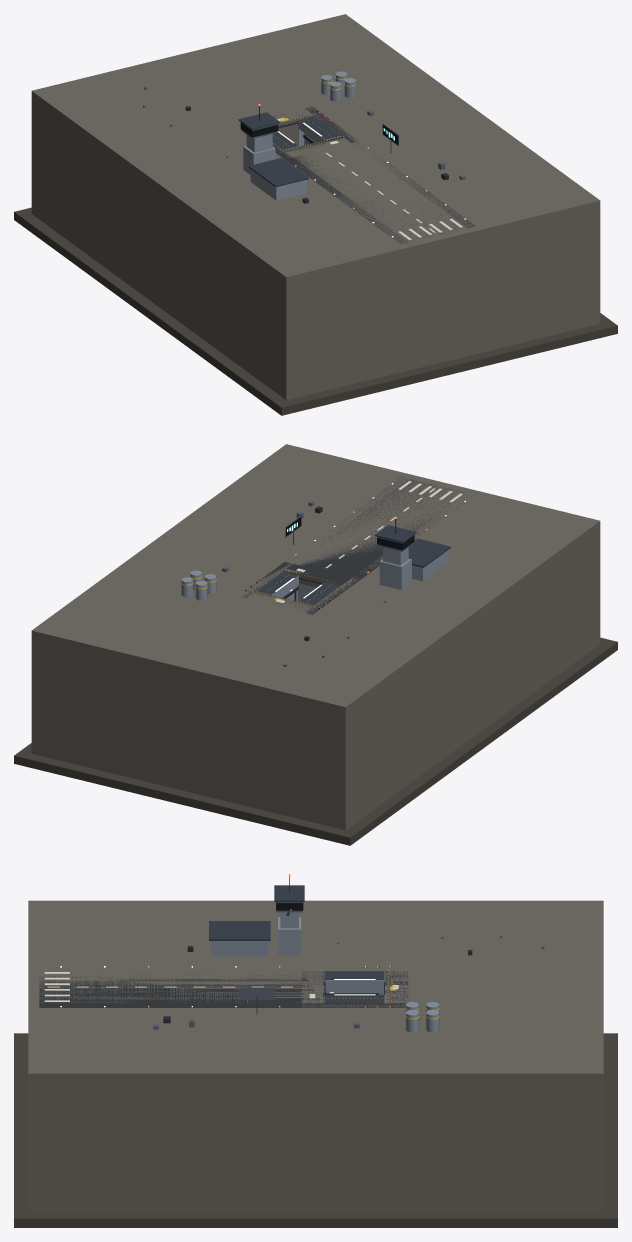
The model's file is runway-port-l.glb.
3 views of the same model, one above another, from view 1: azimuth 30°, elevation 25°; view 2: azimuth 150°, elevation 25°; view 3: azimuth 270°, elevation 25° (orthographic). The views are drawn at different scales.
Visible parts, largest first — view 1: rockFaceFore, rockDeckL, rockDeckR, rockFaceL, rockDeckFore, rockDeckAft, rockSkirt2, rockSkirt1, portStrip, rockFaceR, worksShedRoof, worksShed; view 2: rockFaceAft, rockDeckL, rockDeckR, rockFaceL, rockDeckAft, rockDeckFore, rockSkirt2, rockSkirt0, portStrip, rockFaceR, worksTowerSeg0, worksShedRoof (+1 smaller); view 3: rockFaceR, rockDeckR, rockDeckL, rockSkirt3, rockDeckAft, rockDeckFore, portStrip, rockSkirt1, rockSkirt0, worksShedRoof, worksShed, worksTowerSeg0 (+5 smaller).
Boxes of the visible parts, box(x1,y1,x2,y2) form: rockFaceFore: box(297, 212, 589, 397); rockDeckL: box(31, 59, 413, 285); rockDeckR: box(218, 14, 600, 240); rockFaceL: box(31, 100, 297, 400); rockDeckFore: box(285, 138, 472, 254); rockDeckAft: box(159, 45, 313, 132); rockSkirt2: box(14, 209, 292, 413); rockSkirt1: box(275, 323, 617, 415); portStrip: box(285, 143, 475, 244); rockFaceR: box(589, 209, 600, 326); worksShedRoof: box(248, 158, 308, 187); worksShed: box(250, 169, 306, 200); rockFaceAft: box(42, 642, 334, 827); rockDeckL: box(218, 489, 600, 715); rockDeckR: box(31, 444, 413, 670); rockFaceL: box(334, 530, 600, 830); rockDeckAft: box(159, 591, 312, 684); rockDeckFore: box(283, 475, 472, 587); rockSkirt2: box(339, 639, 617, 843); rockSkirt0: box(14, 753, 356, 845); portStrip: box(296, 477, 464, 579); rockFaceR: box(31, 639, 42, 756); worksTowerSeg0: box(379, 559, 411, 589); worksShedRoof: box(408, 538, 450, 567); rockFaceR: box(28, 1083, 603, 1212); rockDeckR: box(28, 1003, 603, 1083); rockDeckL: box(28, 900, 603, 980); rockSkirt3: box(14, 1212, 617, 1227); rockDeckAft: box(386, 971, 603, 1003); rockDeckFore: box(28, 971, 323, 1003); portStrip: box(39, 975, 301, 1007); rockSkirt1: box(14, 1033, 28, 1227); rockSkirt0: box(603, 1033, 617, 1227); worksShedRoof: box(209, 921, 270, 940); worksShed: box(211, 941, 268, 956); worksTowerSeg0: box(278, 917, 301, 955).
Bounding box in the file's own units: 121 × 72.53 × 167.
